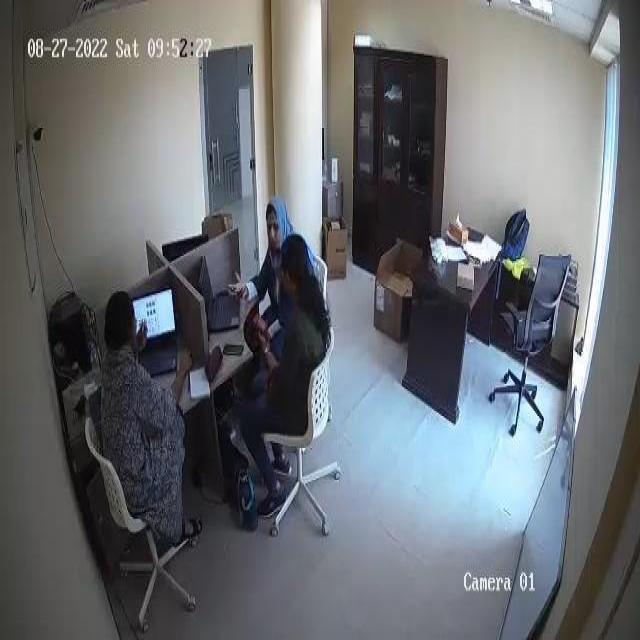bare_hand: (173, 347, 200, 389), (230, 256, 253, 305), (253, 335, 274, 359)
